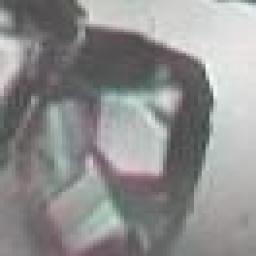crystals: (0, 24, 228, 253)
